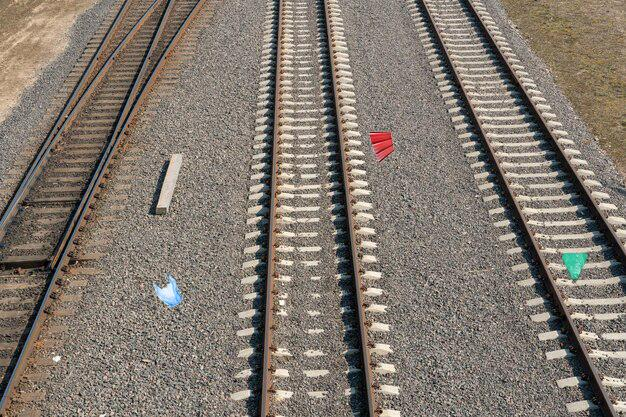Color_steel: (368, 130, 399, 166)
Dust_screen: (552, 245, 594, 288)
Plastic: (148, 276, 188, 313)
